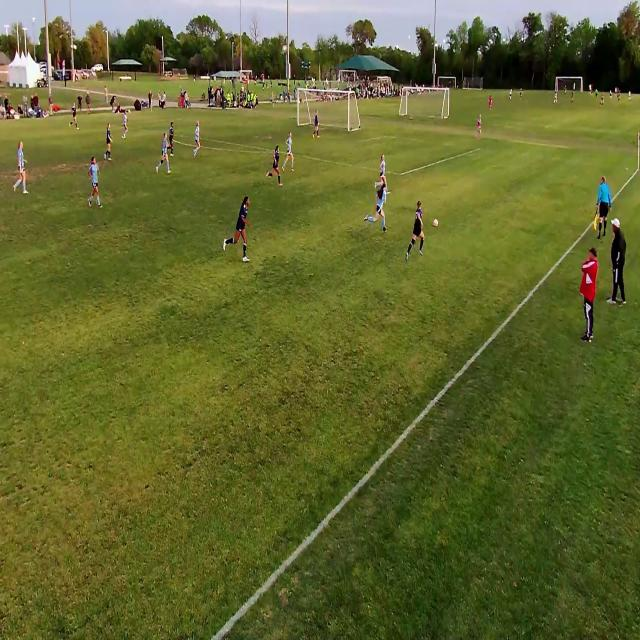ball: (432, 218, 440, 232)
team1: (224, 196, 252, 262), (406, 199, 426, 262), (266, 142, 284, 186), (104, 122, 112, 163), (168, 118, 176, 157), (69, 102, 79, 132)
team2: (372, 176, 389, 231), (88, 156, 102, 208), (15, 141, 28, 196), (159, 130, 170, 172), (286, 128, 296, 168), (378, 152, 389, 184), (194, 119, 202, 160), (123, 110, 129, 138)
